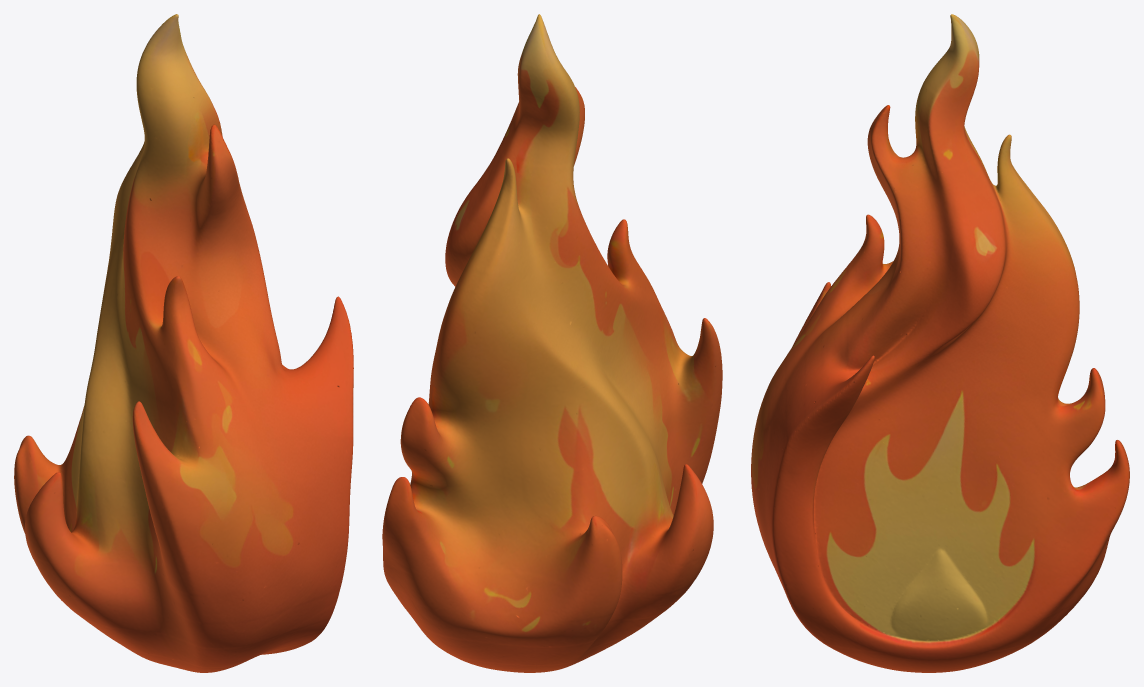
Rendered from Fire.fbx.
3 renders of one model, left to right at view 1: azimuth 30°, elevation 25°; view 2: azimuth 150°, elevation 25°; view 3: azimuth 270°, elevation 25°, orthographic. The views are drawn at different scales.
Parts seen in each view (by area): view 1: tripo_node_fba84e9d; view 2: tripo_node_fba84e9d; view 3: tripo_node_fba84e9d.
Part boxes in pixels (x1,y1,x2,y2): tripo_node_fba84e9d: (14, 14, 353, 672); tripo_node_fba84e9d: (382, 14, 722, 672); tripo_node_fba84e9d: (751, 14, 1129, 672).
Bounding box in the file's own units: 46.29 × 100 × 54.06.
1 material, 1 textured.
